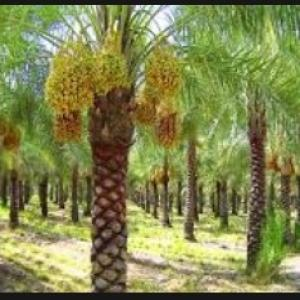palm tree: (174, 4, 299, 276)
